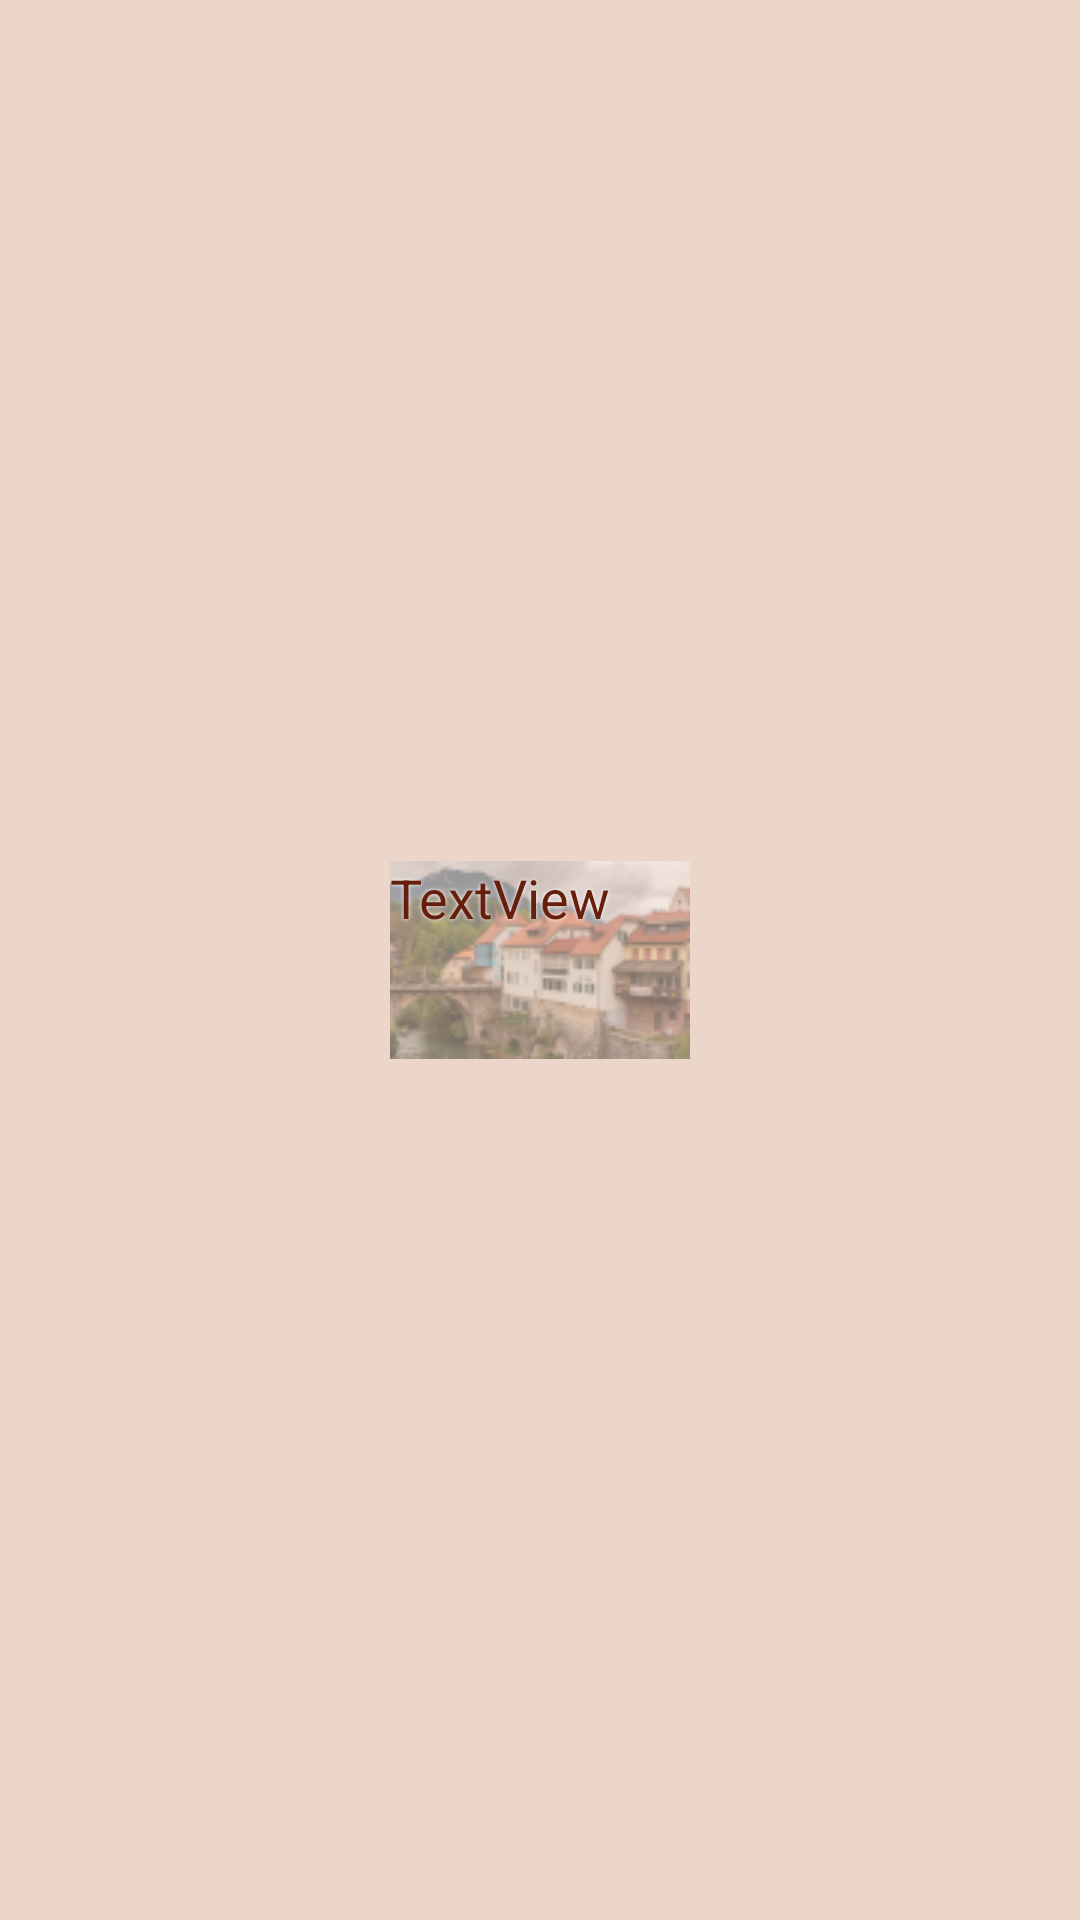

Screen size 1080*1920. Icon name, then its box in pixels as (x1, y1, x2, y2):
fon: (390, 861, 690, 1059)
